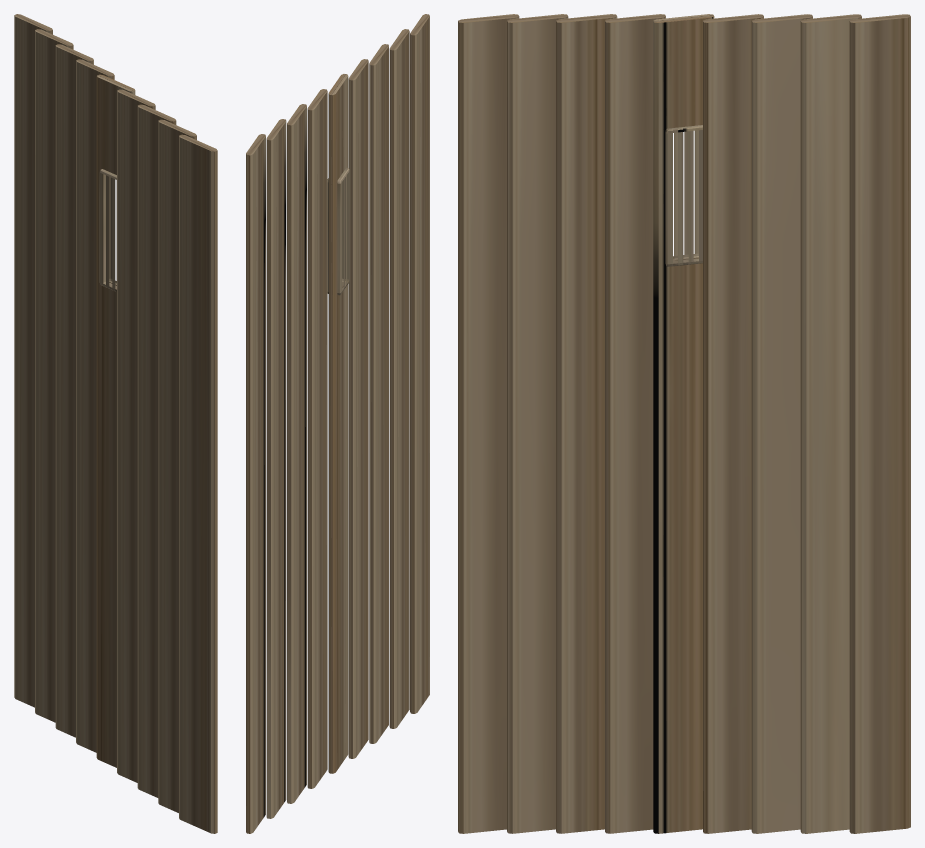
File: ElevatorDoorV1.fbx
The picture shows the model from 3 angles, left to right: view 1: azimuth 30°, elevation 25°; view 2: azimuth 150°, elevation 25°; view 3: azimuth 270°, elevation 25°; orthographic projection. The views are drawn at different scales.
Parts seen in each view (by area): view 1: Cube.002; view 2: Cube.002; view 3: Cube.002.
Boxes of the visible parts, x1=… form: Cube.002: x1=14, y1=14, x2=217, y2=833; Cube.002: x1=246, y1=14, x2=429, y2=833; Cube.002: x1=458, y1=14, x2=910, y2=833.
Size of the model in its own units: 5.82 by 200 by 101.
